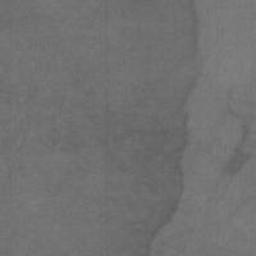Water spot: (0, 0, 197, 256)
